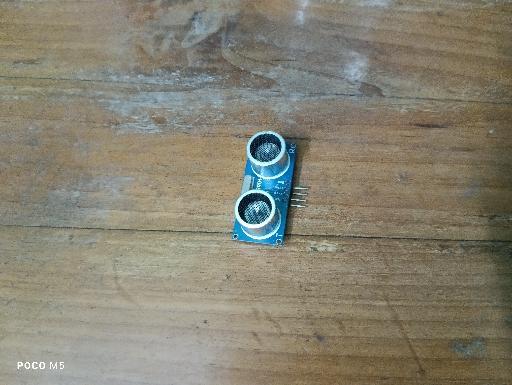sensor: (232, 131, 309, 246)
